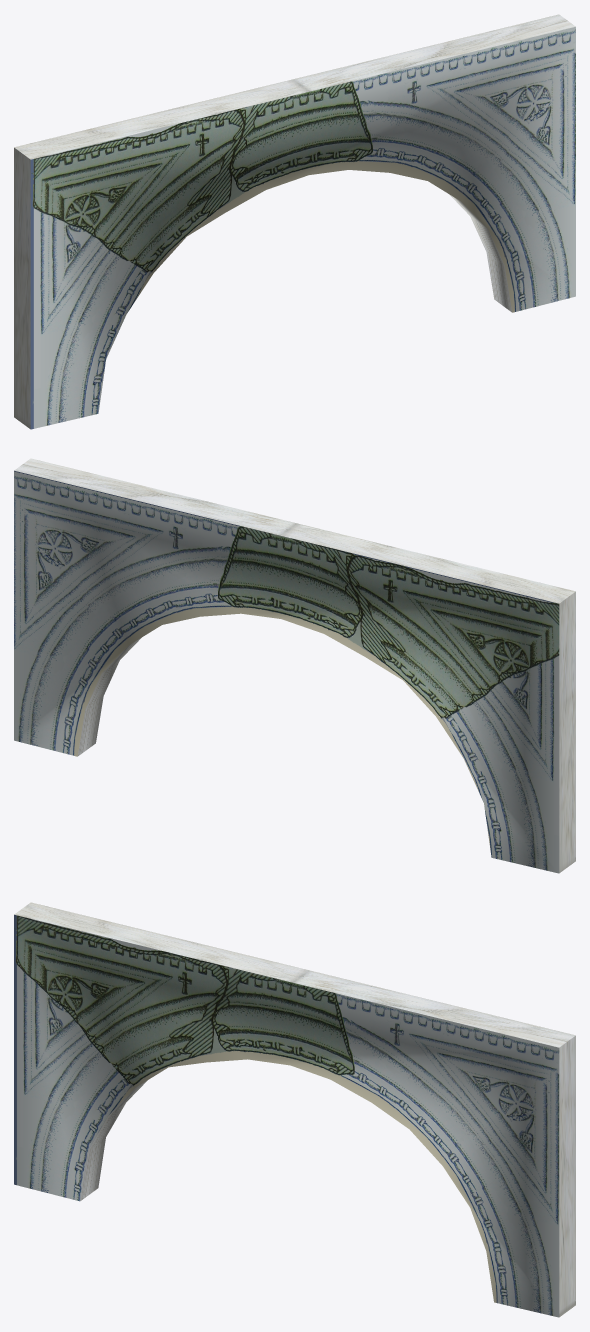
The model's file is AltArc.FBX.
The picture shows the model from 3 angles, top to bottom: view 1: azimuth 30°, elevation 25°; view 2: azimuth 150°, elevation 25°; view 3: azimuth 330°, elevation 25°; orthographic projection.
Visible parts, largest first — view 1: Object004; view 2: Object004; view 3: Object004.
Boxes of the visible parts, bbox=[...] form: Object004: bbox=[14, 14, 575, 429]; Object004: bbox=[14, 458, 575, 873]; Object004: bbox=[14, 902, 575, 1317].
Bounding box in the file's own units: 259 × 123 × 15.04.
2 materials, 2 textured.
